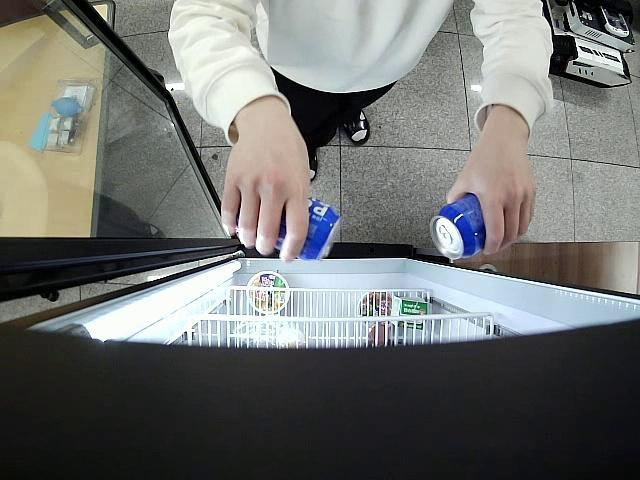13_pocariSweat: (230, 196, 339, 261), (428, 196, 484, 258)
